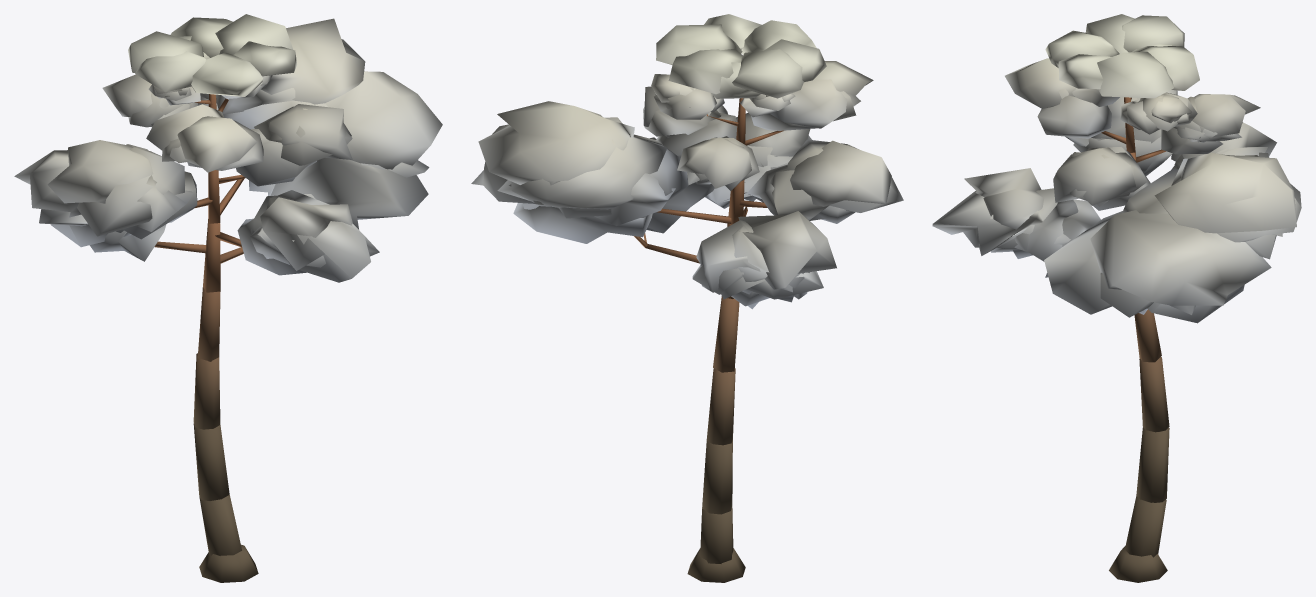
3 renders of one model, left to right at view 1: azimuth 30°, elevation 25°; view 2: azimuth 150°, elevation 25°; view 3: azimuth 270°, elevation 25°, orthographic. The views are drawn at different scales.
Parts seen in each view (by area): view 1: crown, trunk1, trunk2; view 2: crown, trunk1, trunk2; view 3: crown, trunk1, trunk2.
Part boxes in pixels (x1=…): crown: x1=14, y1=14, x2=442, y2=282; trunk1: x1=193, y1=353, x2=258, y2=582; trunk2: x1=154, y1=94, x2=245, y2=361; crown: x1=471, y1=14, x2=903, y2=309; trunk1: x1=687, y1=368, x2=745, y2=582; trunk2: x1=634, y1=98, x2=783, y2=372; crown: x1=932, y1=14, x2=1301, y2=323; trunk1: x1=1109, y1=357, x2=1169, y2=582; trunk2: x1=1101, y1=97, x2=1165, y2=362.
Bounding box in the file's own units: 18.84 × 24.77 × 15.83.
